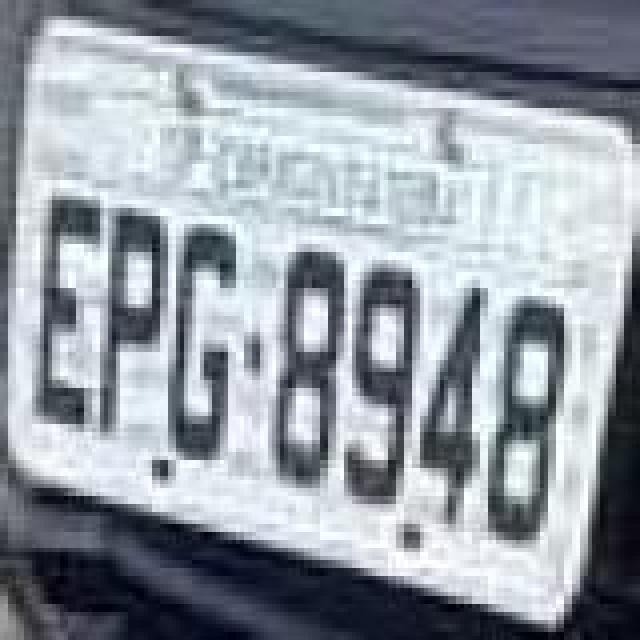4: (418, 268, 494, 532)
8: (486, 298, 570, 550), (270, 246, 354, 490)
9: (342, 262, 426, 506)
E: (30, 194, 106, 430)
G: (162, 226, 238, 462)
P: (98, 208, 174, 440)
